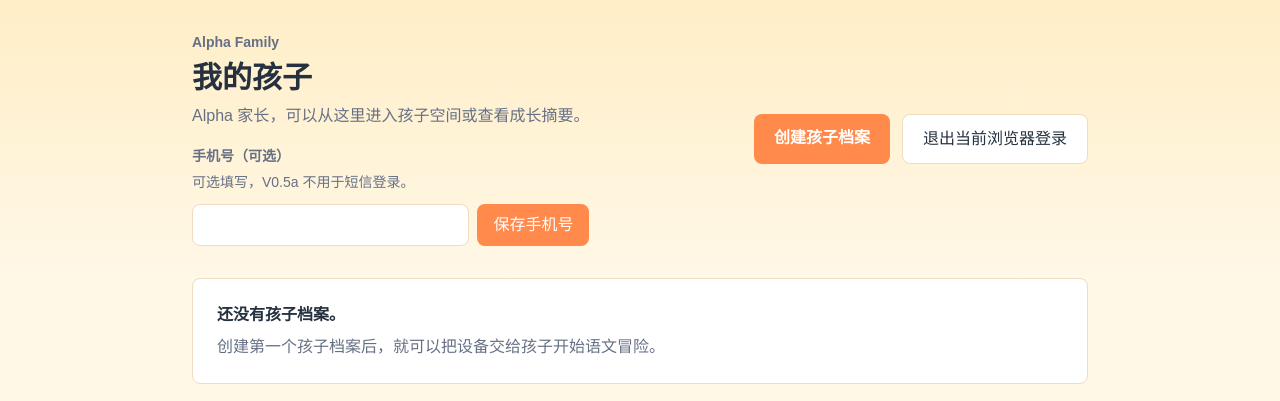
parent can bind an optional phone from children page
In the field labelled "手机号（可选）": (331, 225) [192,204,469,246], type "13800001234"
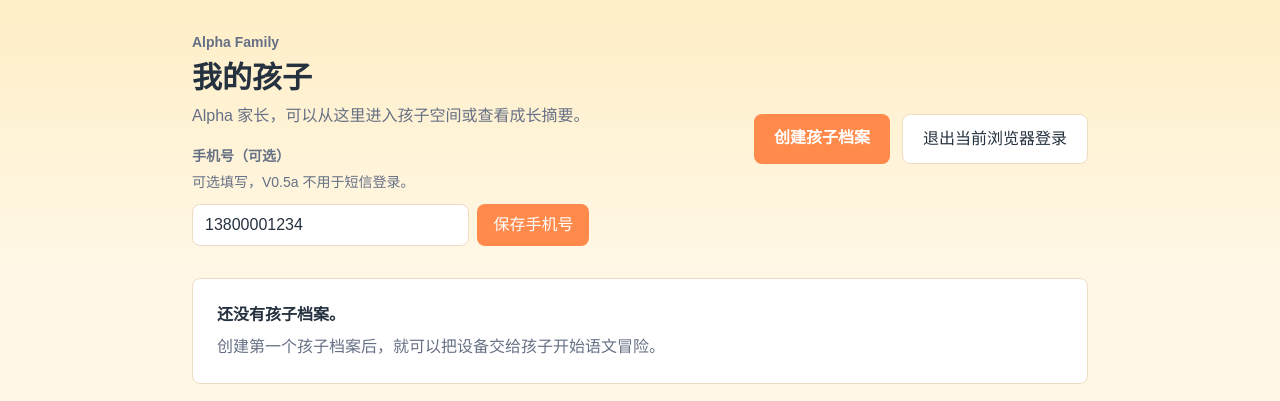
Click the button "保存手机号": (533, 225) [477,204,589,246]
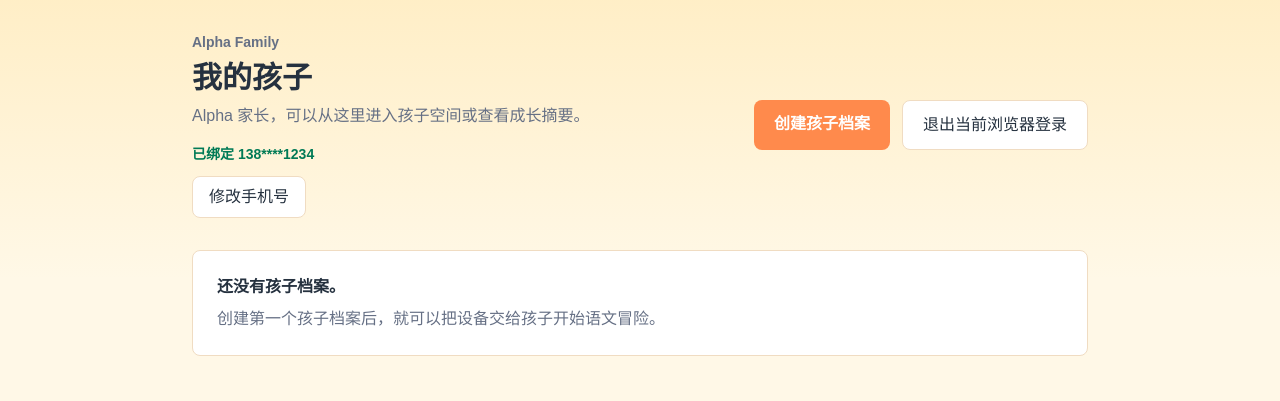
Now the text "已绑定 138****1234" is shown, box [192,146,314,162]
